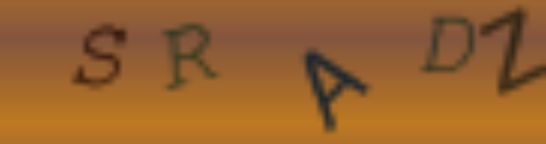A: (301, 47, 374, 134)
D: (419, 14, 477, 76)
R: (161, 23, 222, 92)
S: (71, 22, 129, 89)
Z: (479, 4, 546, 95)
